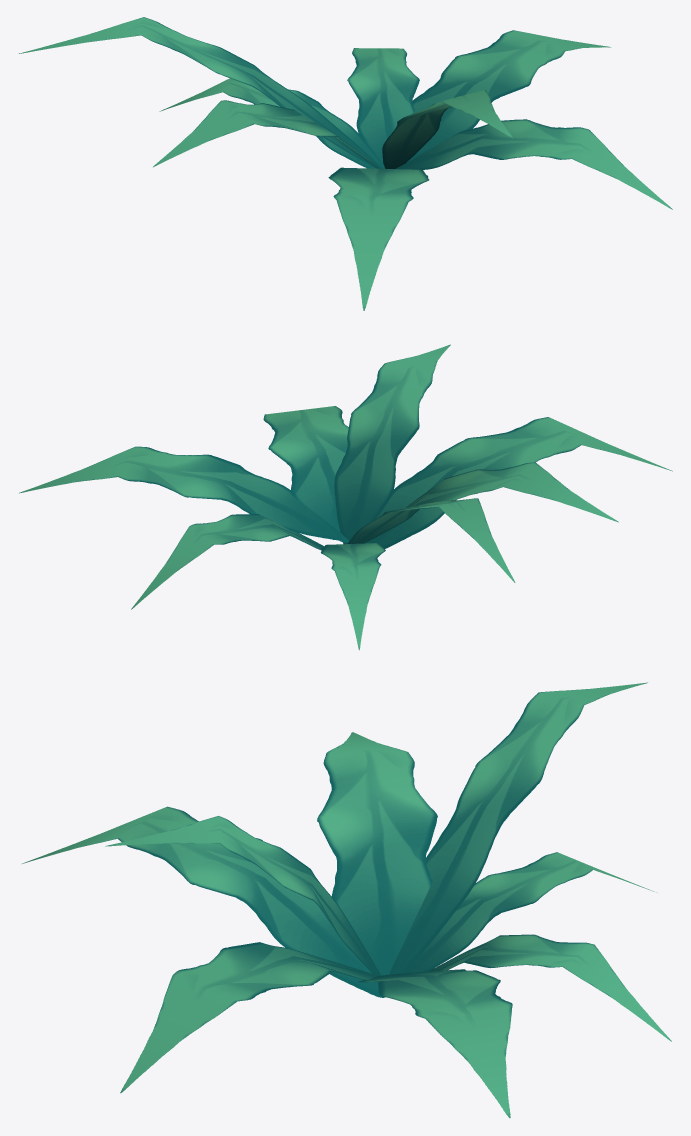
File: Flora_Barbary.fbx
3 renders of one model, top to bottom at view 1: azimuth 30°, elevation 25°; view 2: azimuth 150°, elevation 25°; view 3: azimuth 270°, elevation 25°, orthographic. The views are drawn at different scales.
Visible parts, largest first — view 1: Barbary; view 2: Barbary; view 3: Barbary.
Boxes of the visible parts, box(x1,y1,x2,y2) form: Barbary: box(18, 17, 672, 310); Barbary: box(19, 344, 672, 650); Barbary: box(22, 682, 671, 1118).
Size of the model in its own units: 173 by 46.58 by 145.
